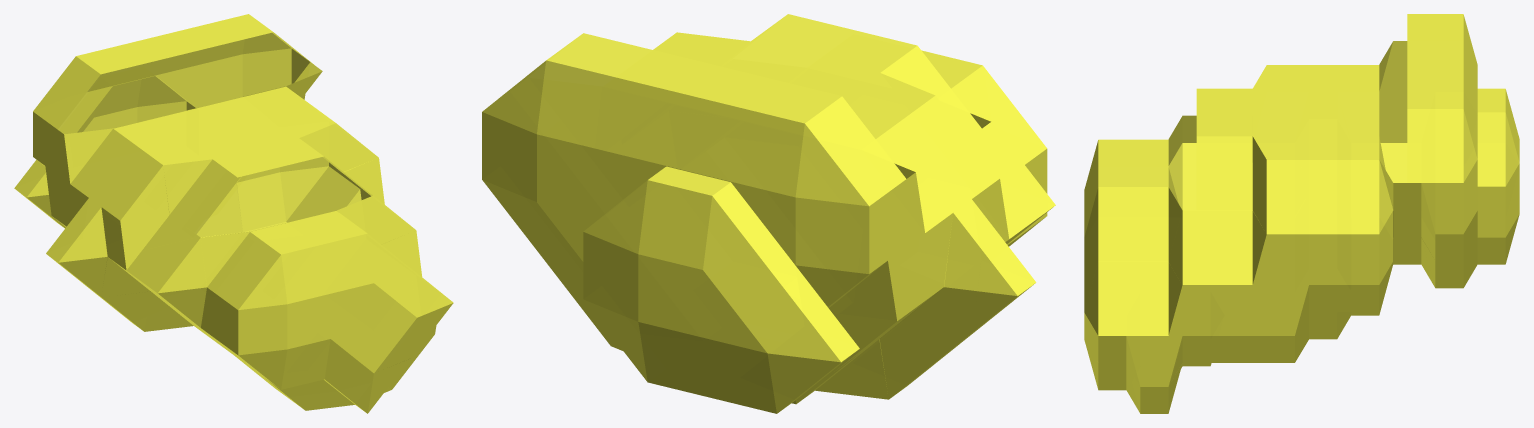
File: SVV_CANR.gltf
3 renders of one model, left to right at view 1: azimuth 30°, elevation 25°; view 2: azimuth 150°, elevation 25°; view 3: azimuth 270°, elevation 25°, orthographic. The views are drawn at different scales.
Parts seen in each view (by area): view 1: CANR; view 2: CANR; view 3: CANR.
Part boxes in pixels (bbox=[...]): CANR: bbox=[14, 14, 453, 413]; CANR: bbox=[482, 14, 1055, 413]; CANR: bbox=[1084, 14, 1519, 413].
Bounding box in the file's own units: 3579 × 3067 × 3969.
